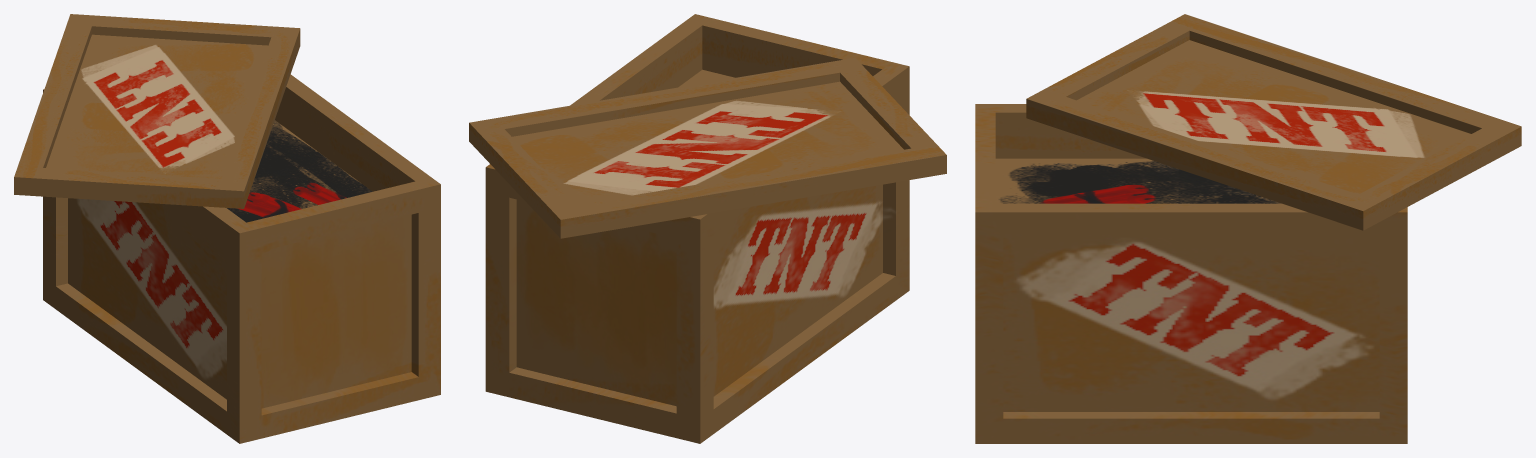
The model's file is CaisseTNT.fbx.
3 views of the same model, side by side, from view 1: azimuth 30°, elevation 25°; view 2: azimuth 150°, elevation 25°; view 3: azimuth 270°, elevation 25° (orthographic). The views are drawn at different scales.
Visible parts, largest first — view 1: pCube1, pCube2; view 2: pCube1, pCube2; view 3: pCube1, pCube2.
Part boxes in pixels (left/top/right/bottom): pCube1: left=43, top=74, right=440, bottom=443; pCube2: left=14, top=14, right=300, bottom=208; pCube1: left=485, top=14, right=909, bottom=443; pCube2: left=469, top=58, right=946, bottom=238; pCube1: left=975, top=104, right=1407, bottom=443; pCube2: left=1026, top=14, right=1521, bottom=230.
Size of the model in its own units: 1.83 by 1.09 by 2.14.
